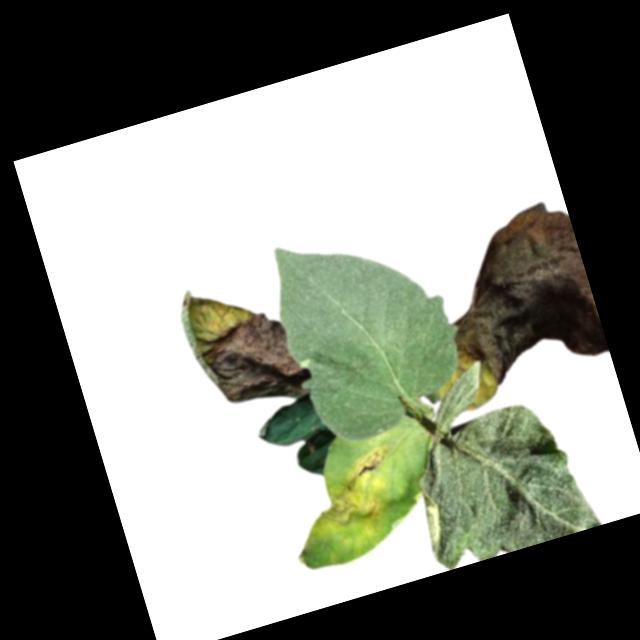Late_blight: (421, 194, 609, 396), (172, 263, 314, 425), (305, 445, 408, 542)
healthy: (258, 204, 480, 452), (398, 389, 603, 573), (422, 360, 498, 433)
